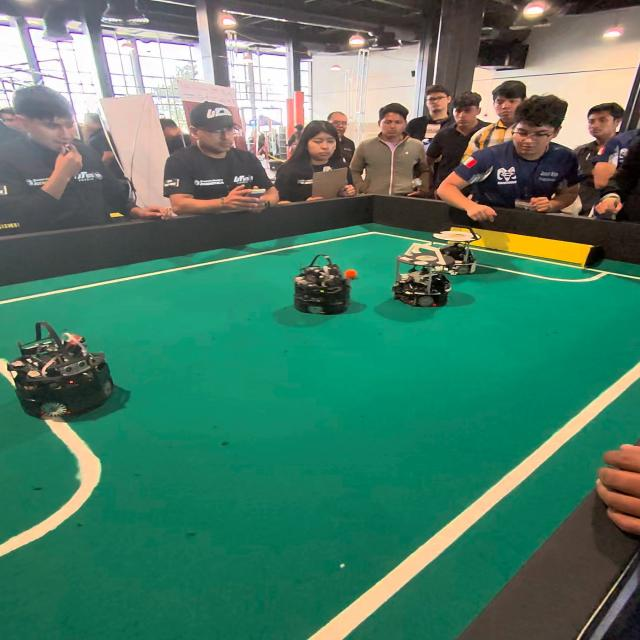Robot: (4, 320, 114, 428), (393, 244, 456, 312), (294, 255, 357, 320), (417, 223, 481, 276)
